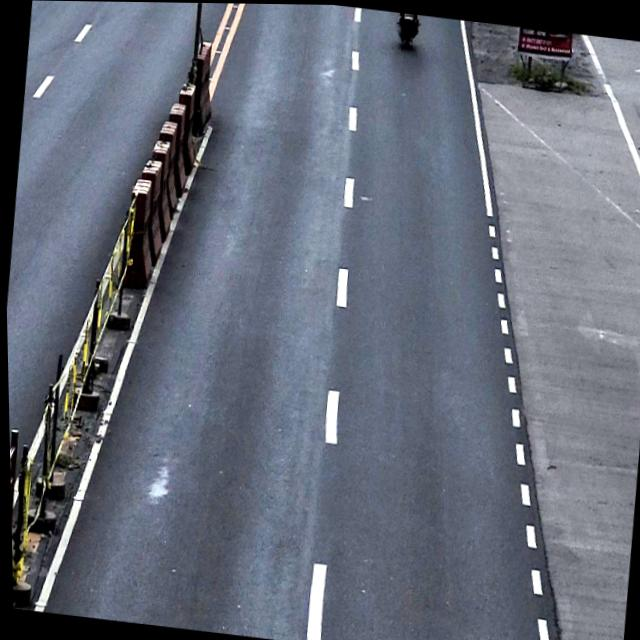License-Plate: (402, 12, 414, 19)
Motorcycle: (393, 11, 421, 46)
